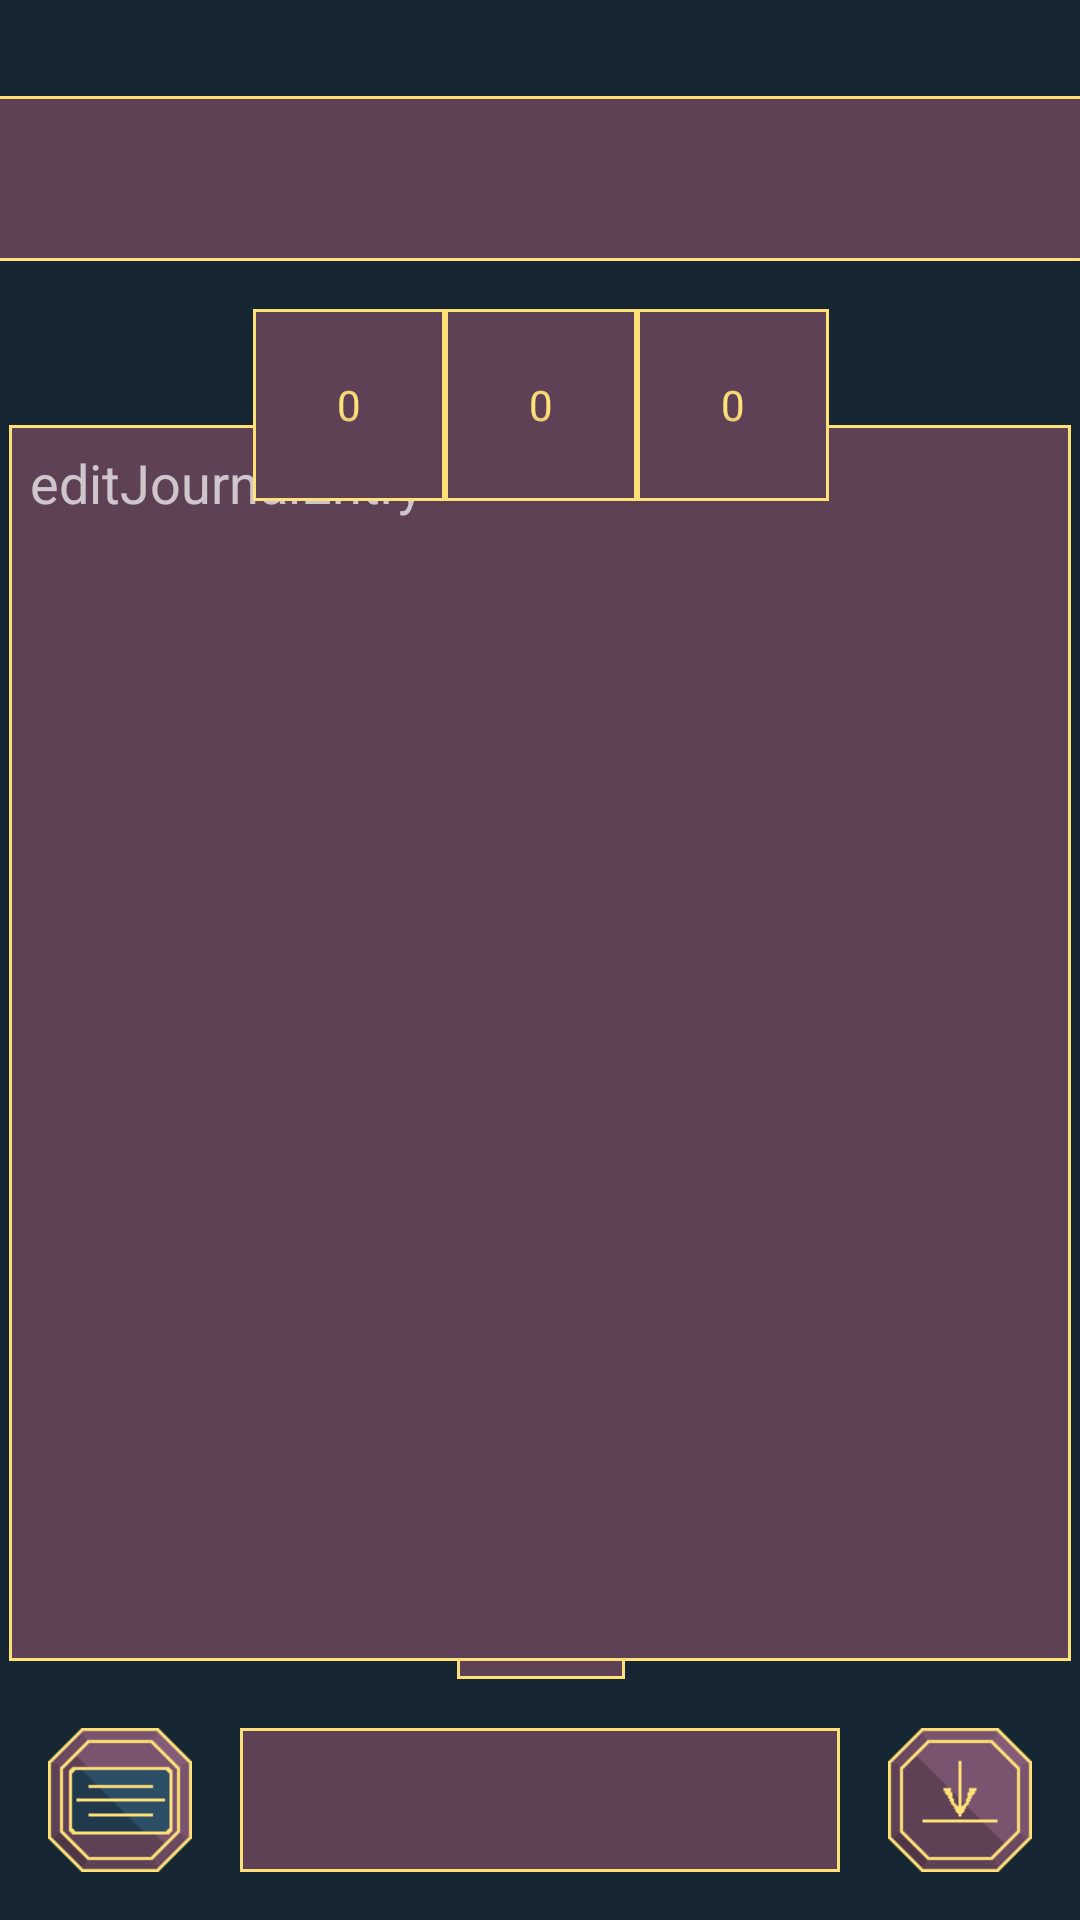

Point at icon controls on the screen. Image size 1080px×1920px, points as point (x, y).
save: point (960, 1800)
